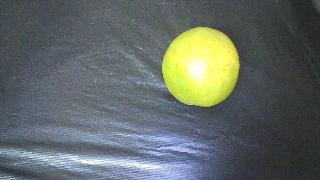LOCAL: (162, 27, 240, 107)
